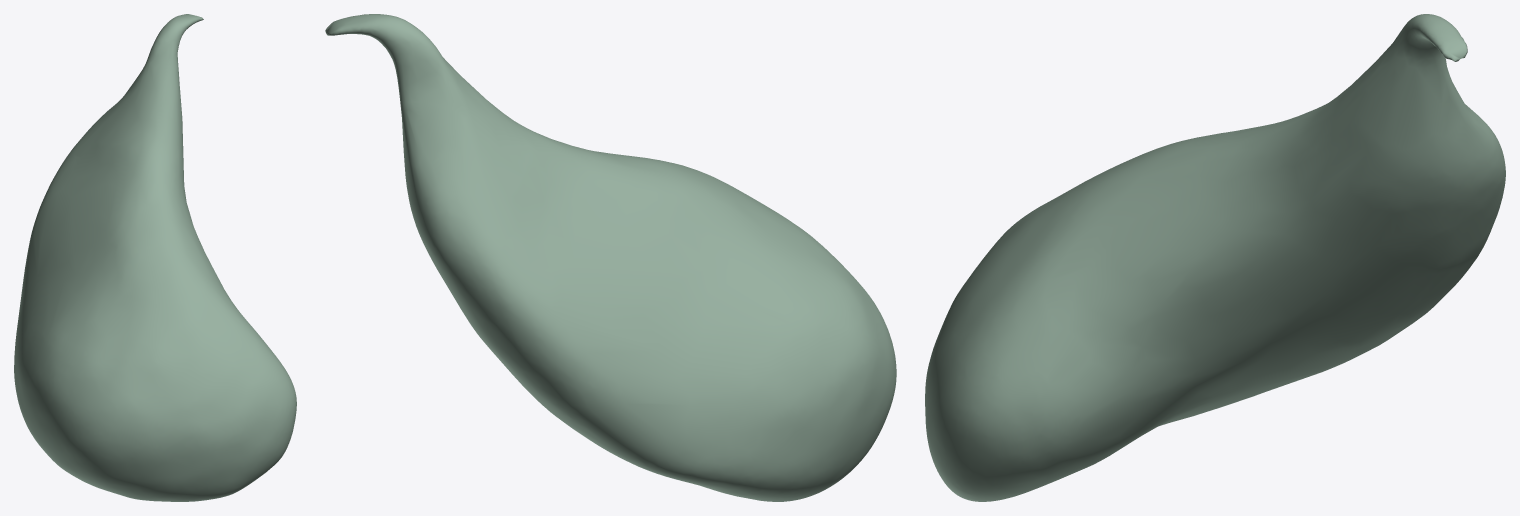
Rendered from gallbladder.glb.
3 views of the same model, side by side, from view 1: azimuth 30°, elevation 25°; view 2: azimuth 150°, elevation 25°; view 3: azimuth 270°, elevation 25° (orthographic). The views are drawn at different scales.
Visible parts, largest first — view 1: FMA7202.stl; view 2: FMA7202.stl; view 3: FMA7202.stl.
Part boxes in pixels (x1=…): FMA7202.stl: x1=14, y1=14, x2=296, y2=501; FMA7202.stl: x1=325, y1=14, x2=896, y2=501; FMA7202.stl: x1=925, y1=14, x2=1505, y2=501.
Size of the model in its own units: 1.56 by 2 by 1.89.
